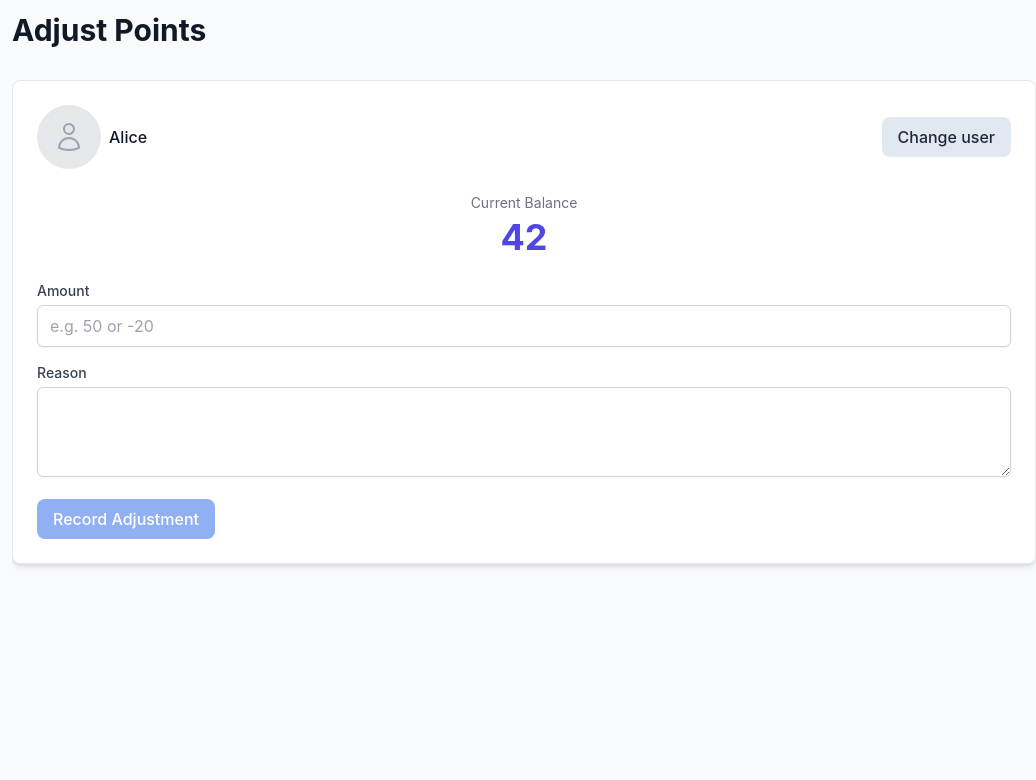
Test: AdminPointsAdjustment page › shows the server error message when the adjustment fails
Check: the text "42" is shown, box [500,215,548,259]
In the number field labelled "Amount": x=524, y=326 [37,305,1011,347], type "-1000"
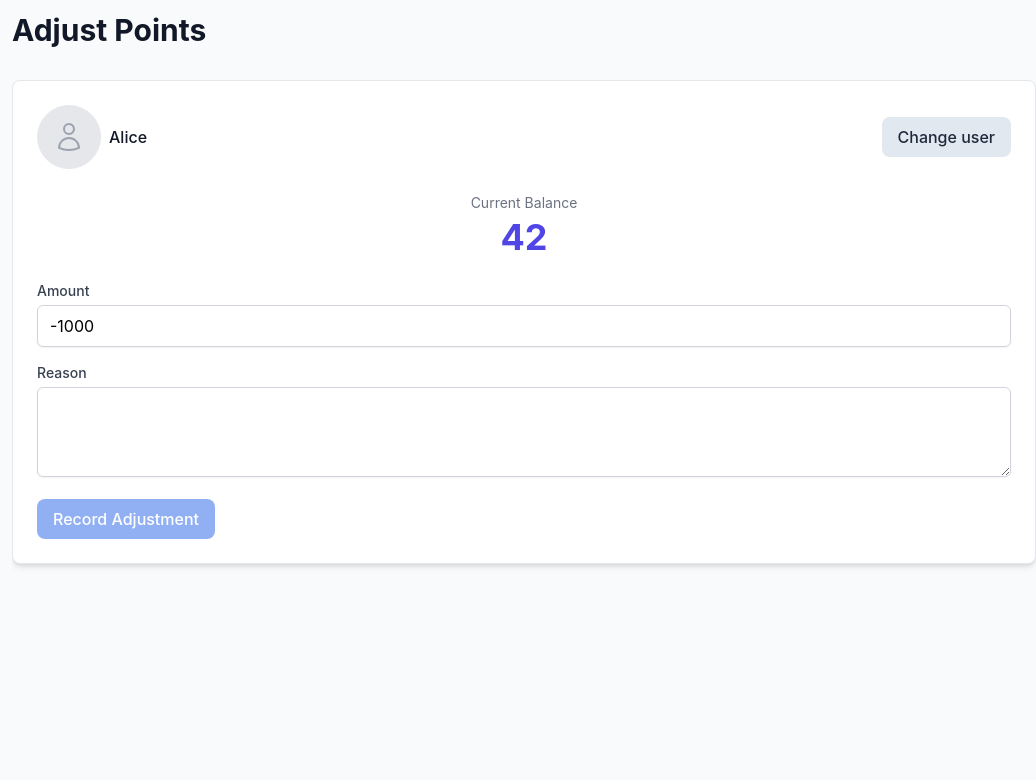
In the text box labelled "Reason": x=524, y=432 [37,387,1011,477], type "Correction"
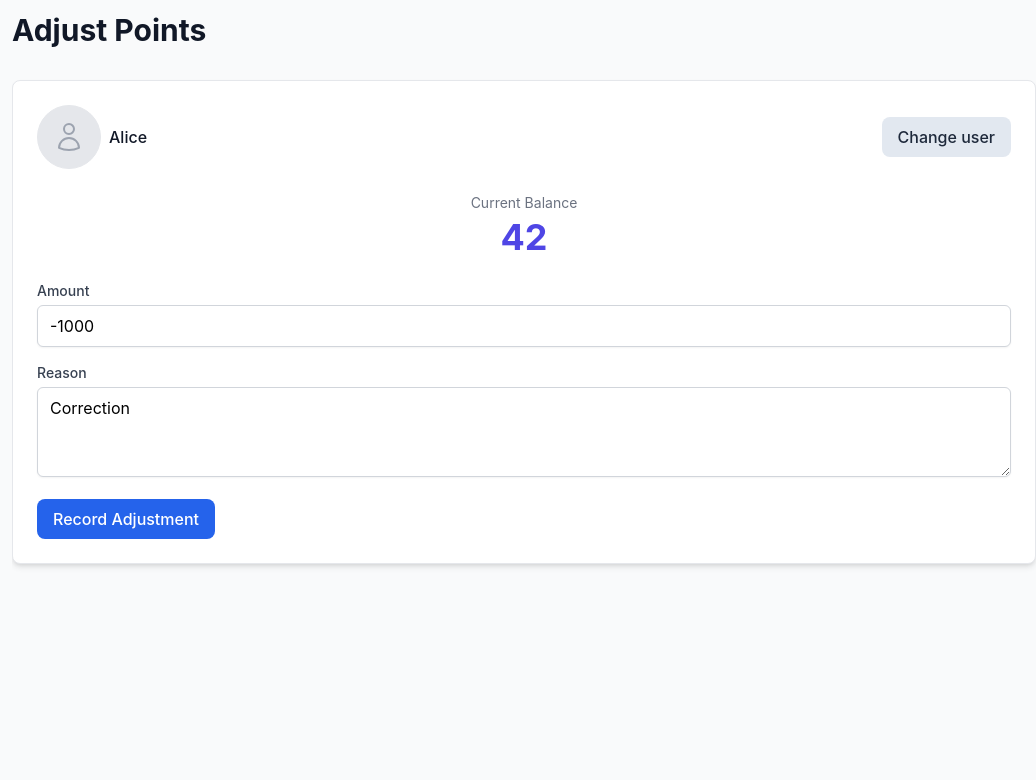
Click the button "Record Adjustment": x=126, y=519 [37,499,215,539]
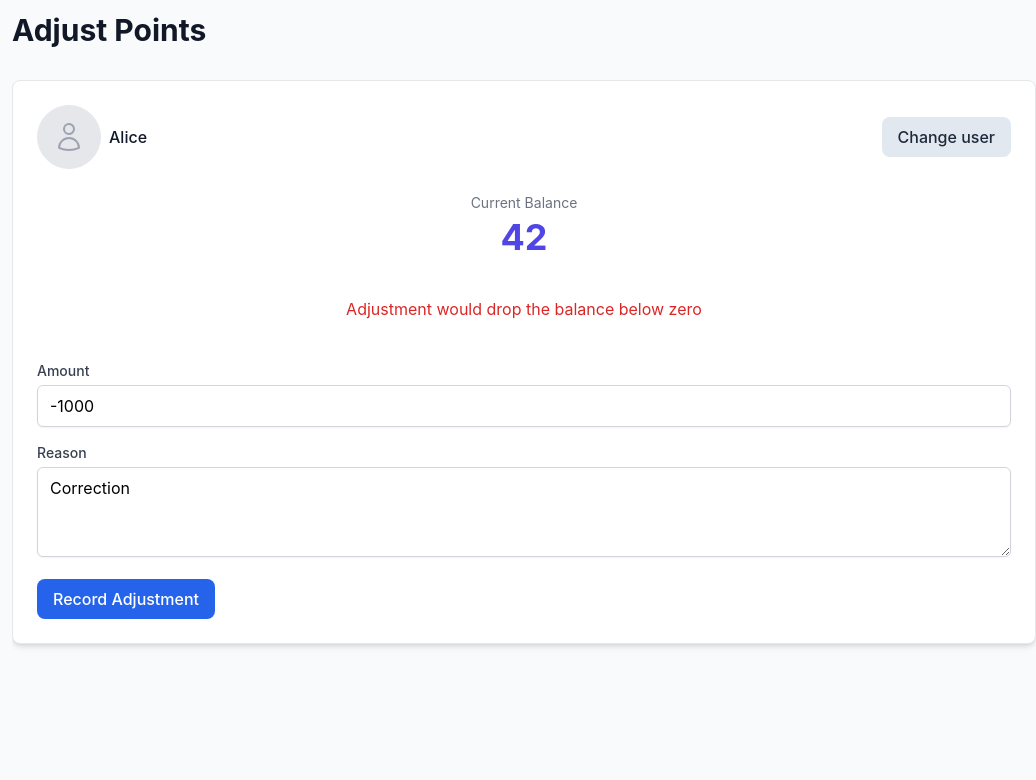
Check: the message reads "Adjustment would drop the balance below zero", box [346,299,702,319]
